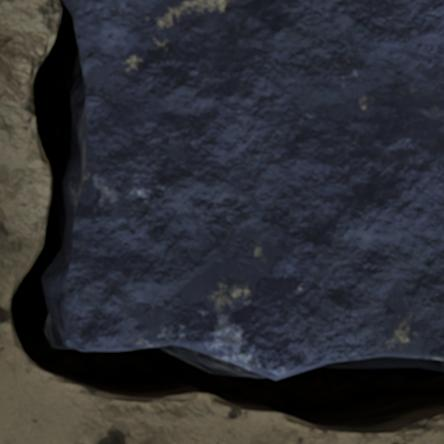brick: (42, 0, 443, 378)
crack: (2, 0, 443, 443)
